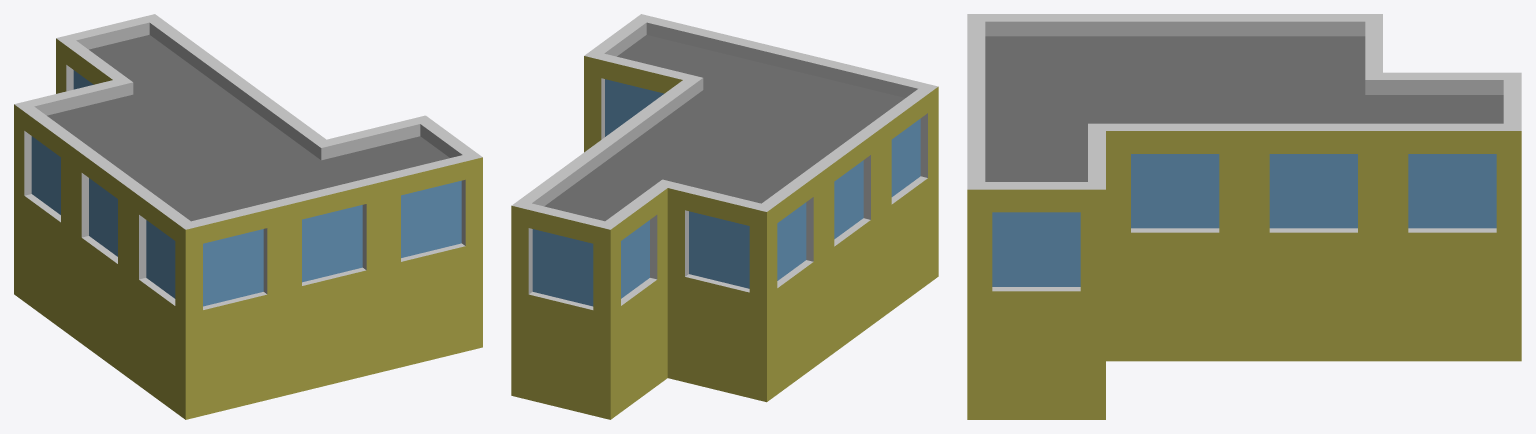
The model's file is building1.fbx.
The picture shows the model from 3 angles, left to right: view 1: azimuth 30°, elevation 25°; view 2: azimuth 150°, elevation 25°; view 3: azimuth 270°, elevation 25°; orthographic projection. The views are drawn at different scales.
Visible parts, largest first — view 1: polySurface8; view 2: polySurface8; view 3: polySurface8.
Boxes of the visible parts, box(x1,y1,x2,y2) form: polySurface8: box(14, 14, 482, 419); polySurface8: box(511, 14, 938, 419); polySurface8: box(967, 14, 1521, 419).
Size of the model in its own units: 78.75 by 48.13 by 105.
